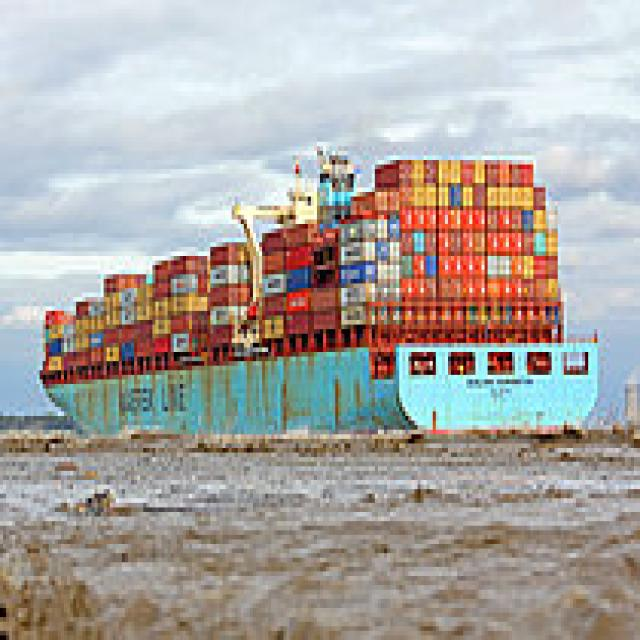Cargo: (33, 132, 600, 444)
